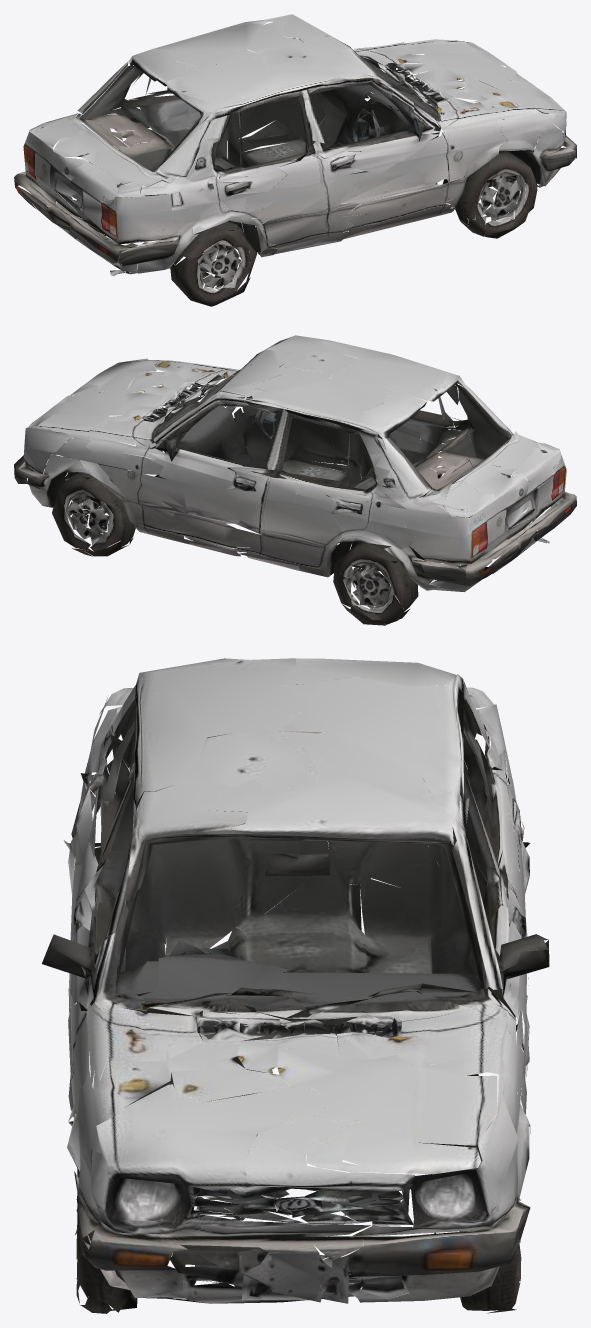
Rendered from jp_sedan.glb.
3 views of the same model, one above another, from view 1: azimuth 30°, elevation 25°; view 2: azimuth 150°, elevation 25°; view 3: azimuth 270°, elevation 25° (orthographic). The views are drawn at different scales.
Visible parts, largest first — view 1: tripo_node_246b604c-6cf3-4c20-8c5e-7d43390e1c81; view 2: tripo_node_246b604c-6cf3-4c20-8c5e-7d43390e1c81; view 3: tripo_node_246b604c-6cf3-4c20-8c5e-7d43390e1c81.
Part boxes in pixels (box(x1,y1,x2,y2)): tripo_node_246b604c-6cf3-4c20-8c5e-7d43390e1c81: box(14, 14, 576, 306); tripo_node_246b604c-6cf3-4c20-8c5e-7d43390e1c81: box(14, 335, 576, 625); tripo_node_246b604c-6cf3-4c20-8c5e-7d43390e1c81: box(42, 658, 549, 1313).
Bounding box in the file's own units: 3.61 × 1.4 × 1.67.
Materials: 1 (1 with a texture image).
